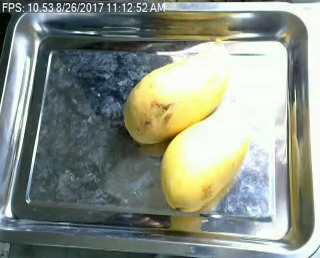Mango: (126, 38, 236, 144), (159, 98, 261, 210)
